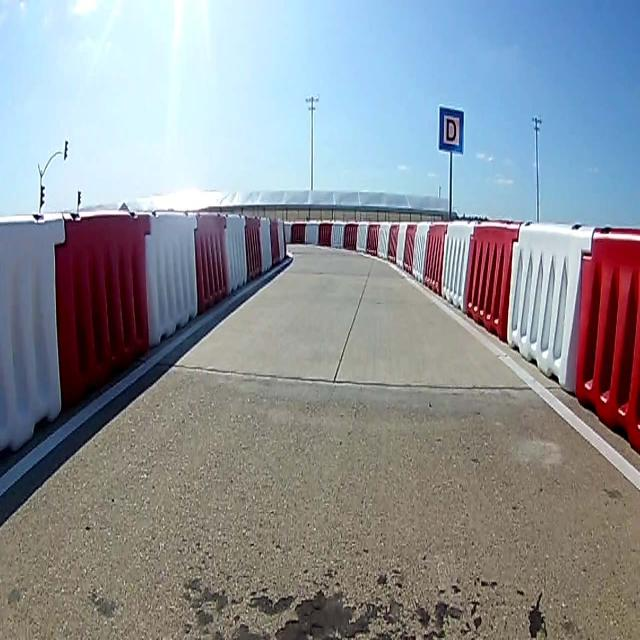durak: (439, 106, 465, 153)
